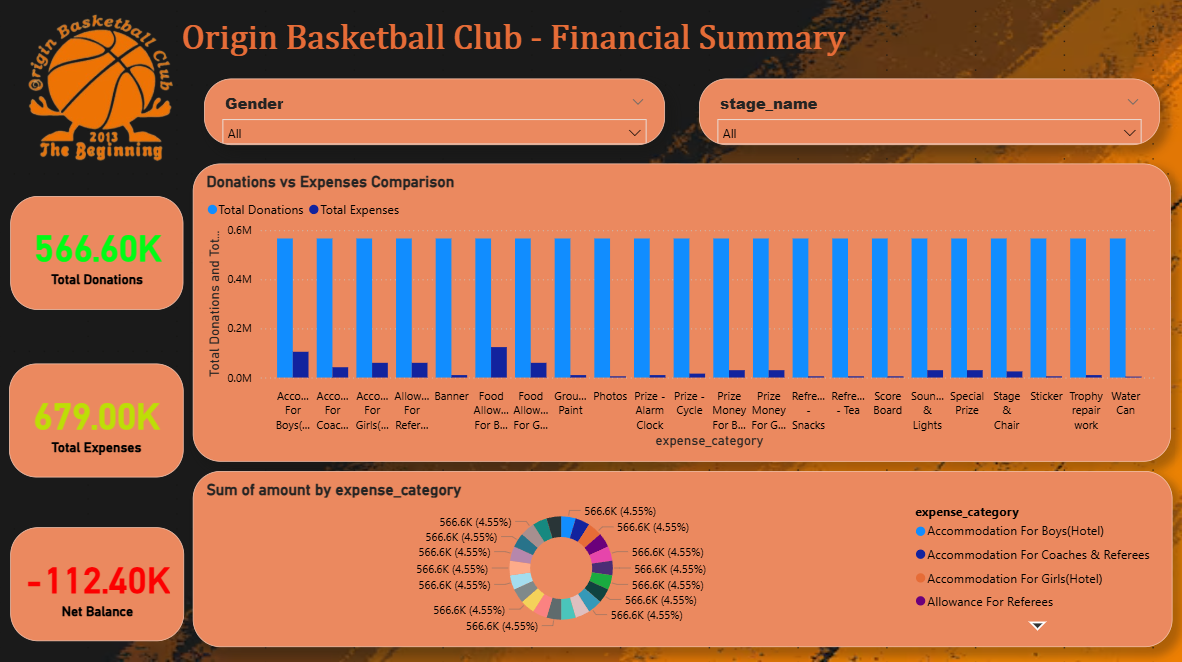

The dashboard page shown, as its layout file describes it:
{"tool":"powerbi","page":{"name":"Financial Summary ","canvas":[1280,720],"ordinal":1},"visuals":[{"type":"card","fields":{"Values":["_Measures.Total Donations"]},"box":[12.7,215.7,187.3,123],"z":0},{"type":"card","fields":{"Values":["_Measures.Total Expenses"]},"box":[11.3,397.2,188.7,123],"z":1000},{"type":"card","fields":{"Values":["_Measures.Net Balance"]},"box":[12.1,574.4,188,123],"z":2000},{"type":"clusteredColumnChart","title":"Donations vs Expenses Comparison","fields":{"Category":["origin_basketball_db expenses.expense_category","origin_basketball_db donations.donation_id"],"Y":["_Measures.Total Donations","_Measures.Total Expenses"]},"box":[209.9,181.7,1057.7,322.5],"z":3000},{"type":"slicer","fields":{"Values":["origin_basketball_db gender_categories.gender_name"]},"box":[221.1,88.7,498,72],"z":4000},{"type":"slicer","fields":{"Values":["origin_basketball_db match_stages.stage_name"]},"box":[756.3,88.7,498,72],"z":5000},{"type":"donutChart","fields":{"Category":["origin_basketball_db expenses.expense_category"],"Y":["Sum(origin_basketball_db donations.amount)"]},"box":[209.9,514.1,1059.2,190.1],"z":6000},{"type":"image","box":[1.4,0,209.9,205.6],"z":7000},{"type":"textbox","box":[191.5,19.7,754.9,81.7],"z":8000}]}

Visuals, with their boxes in screenshot pixels (x1, y1, x2, y2), scaled from the page's 1280x720 canvas onto the 1182x662 screenshot:
card - _Measures.Total Donations: crop(12, 198, 185, 311)
card - _Measures.Total Expenses: crop(10, 365, 185, 478)
card - _Measures.Net Balance: crop(11, 528, 185, 641)
"Donations vs Expenses Comparison" clusteredColumnChart: crop(194, 167, 1171, 464)
slicer - origin_basketball_db gender_categories.gender_name: crop(204, 82, 664, 148)
slicer - origin_basketball_db match_stages.stage_name: crop(698, 82, 1158, 148)
donutChart - origin_basketball_db expenses.expense_category x Sum(origin_basketball_db donations.amount): crop(194, 473, 1172, 647)
image: crop(1, 0, 195, 189)
textbox: crop(177, 18, 874, 93)
